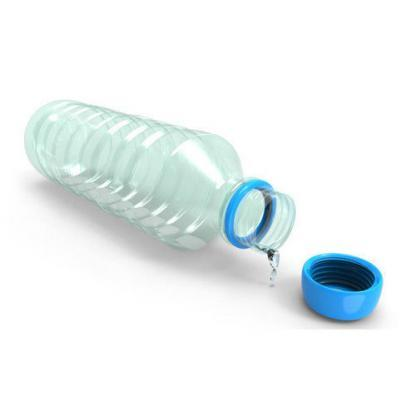bottle: (21, 75, 386, 325)
